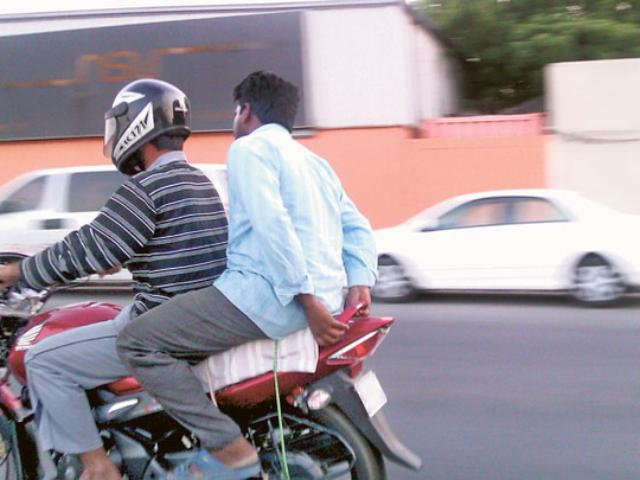licensePlate: (353, 371, 396, 420)
motorcycle: (0, 58, 425, 480)
withHelmet: (93, 78, 199, 162)
withoutHelmet: (219, 65, 299, 138)
